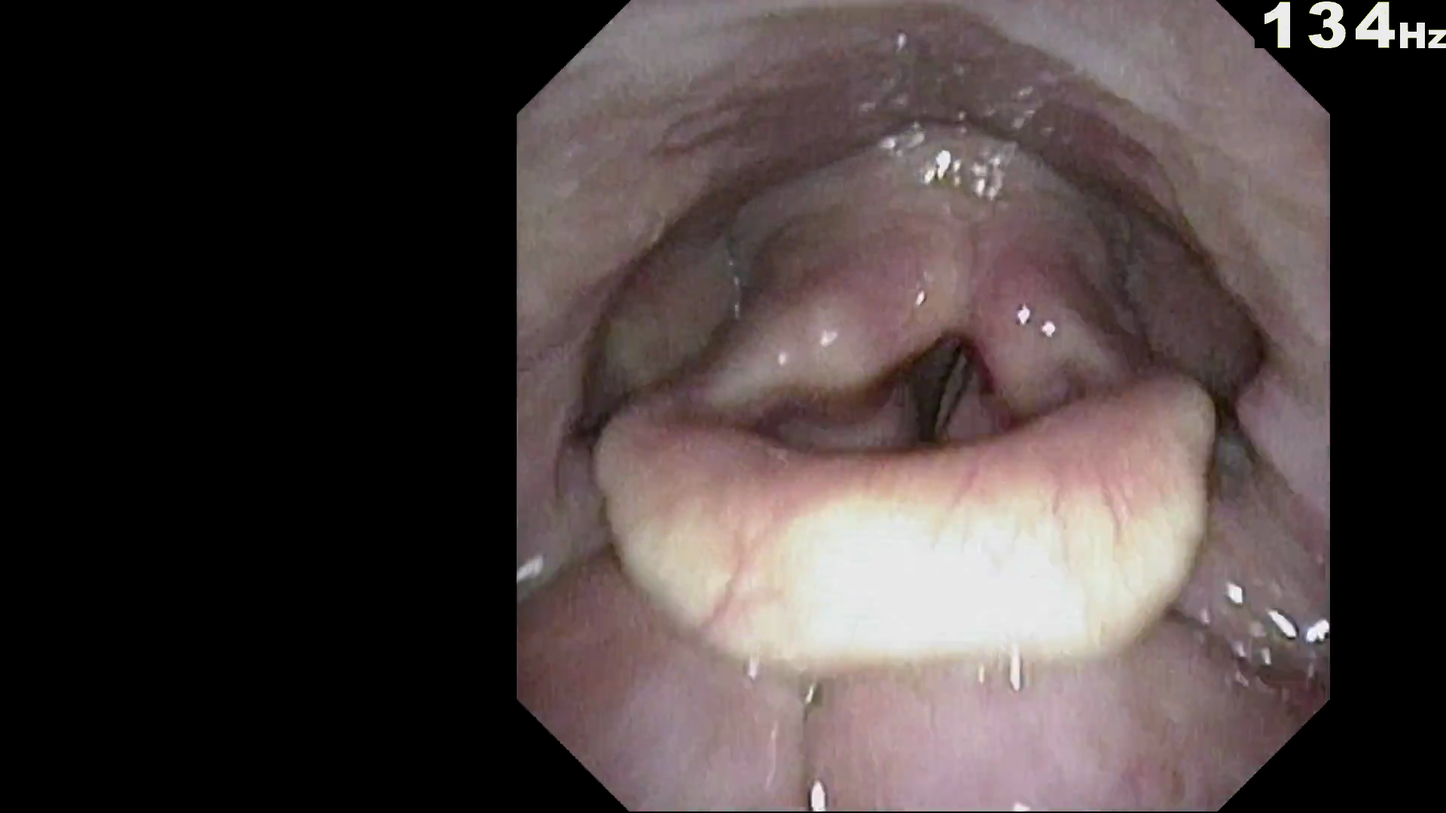epiglottis: (601, 386, 1208, 668)
trachea: (880, 330, 991, 453)
